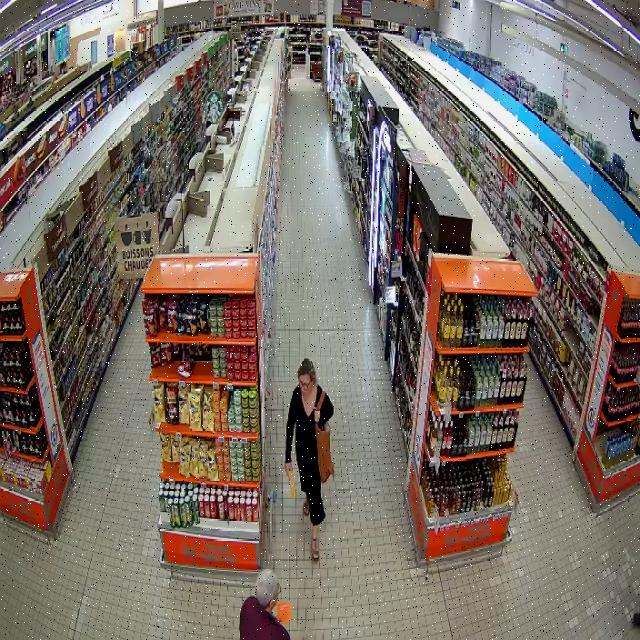article: (276, 601, 291, 623), (286, 468, 295, 498)
hands: (312, 406, 320, 423), (285, 462, 292, 475)
person: (285, 358, 333, 560), (240, 569, 290, 639)
